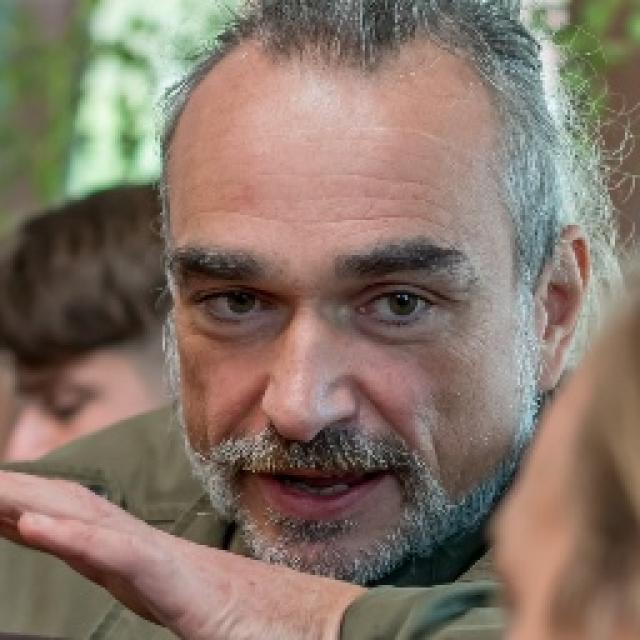earlobe: (536, 333, 566, 395)
eye: (353, 289, 438, 323), (195, 290, 276, 320)
nose: (263, 416, 355, 460)
wholeear: (535, 223, 593, 394)
